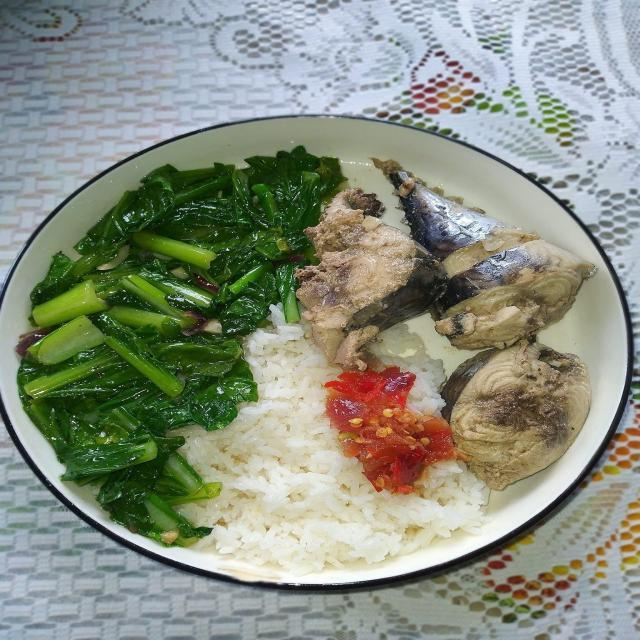Fish: (304, 161, 601, 494)
Plate: (0, 115, 628, 589)
Rice: (173, 324, 483, 571)
Vegetables: (18, 147, 343, 542)
